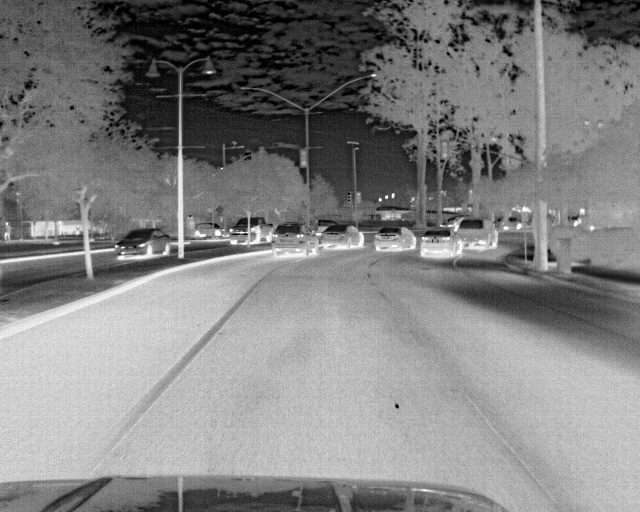vehicle: (115, 230, 173, 261), (274, 224, 318, 258), (456, 216, 501, 249), (230, 216, 271, 250), (420, 229, 466, 259), (320, 227, 364, 252), (375, 227, 418, 252)
